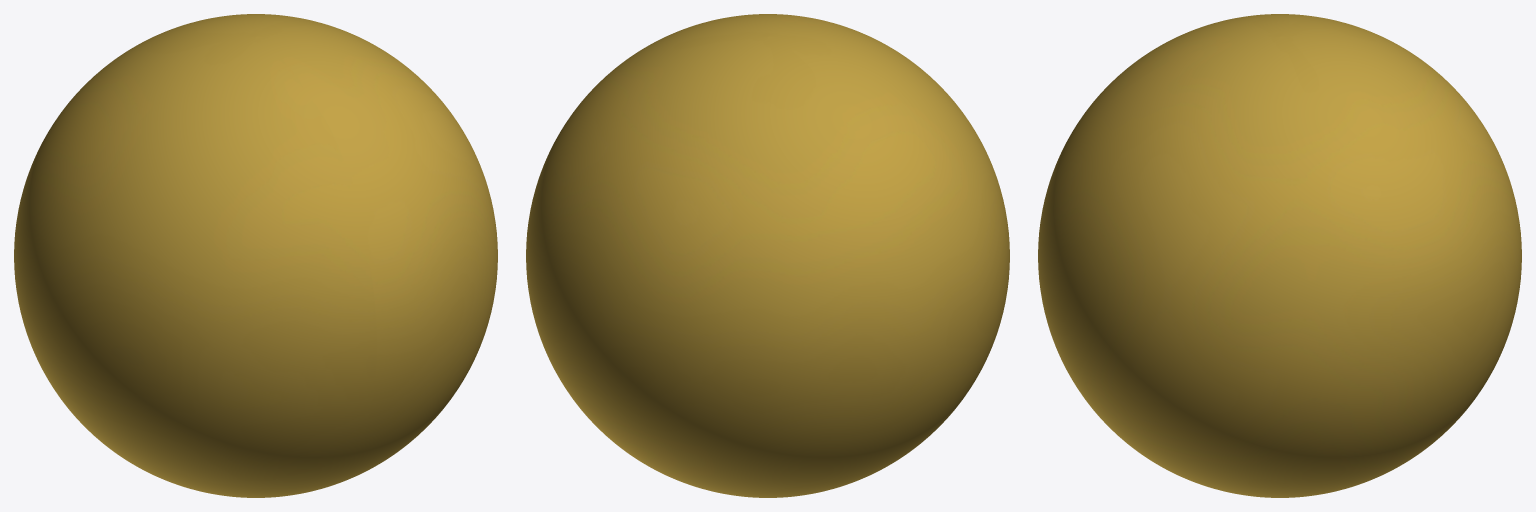
File: titan.glb
3 renders of one model, left to right at view 1: azimuth 30°, elevation 25°; view 2: azimuth 150°, elevation 25°; view 3: azimuth 270°, elevation 25°, orthographic.
Visible parts, largest first — view 1: cylindrically_mapped_sphere; view 2: cylindrically_mapped_sphere; view 3: cylindrically_mapped_sphere.
Part boxes in pixels (x1,y1,x2,y2): cylindrically_mapped_sphere: (14,14,497,497); cylindrically_mapped_sphere: (526,14,1009,497); cylindrically_mapped_sphere: (1038,14,1521,497).
Size of the model in its own units: 1000 by 1000 by 1000.
1 material, 1 textured.
